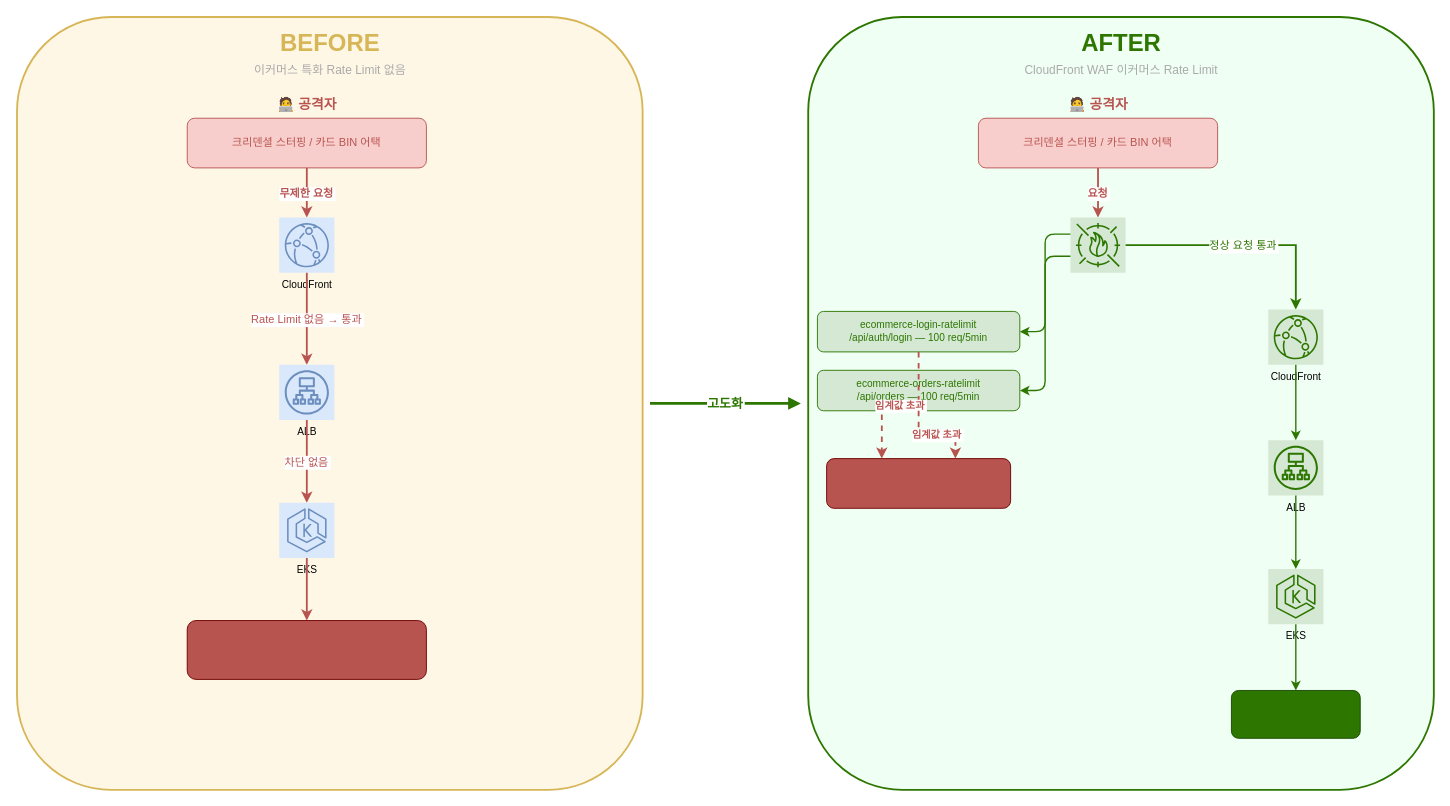
Some shapes in this 1450 by 806 pixel diagram are drawn without their labels. The box of each missing label's shape, as (x1, y1, x2, y2) in pixels:
CloudFront WAF: (1070, 217, 1126, 273)
✅ 정상 처리: (1230, 690, 1360, 738)
❌ 공격 성공: (186, 620, 426, 679)
🚫 BLOCKED 429: (826, 458, 1011, 508)
